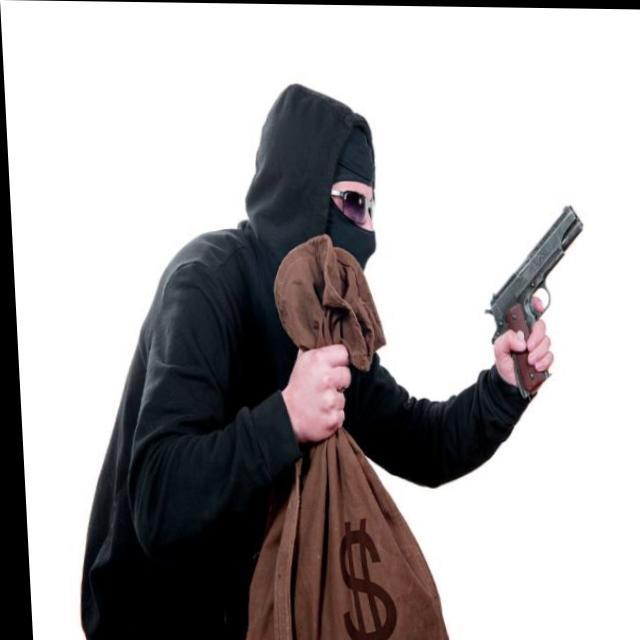weapon: (477, 200, 588, 399)
